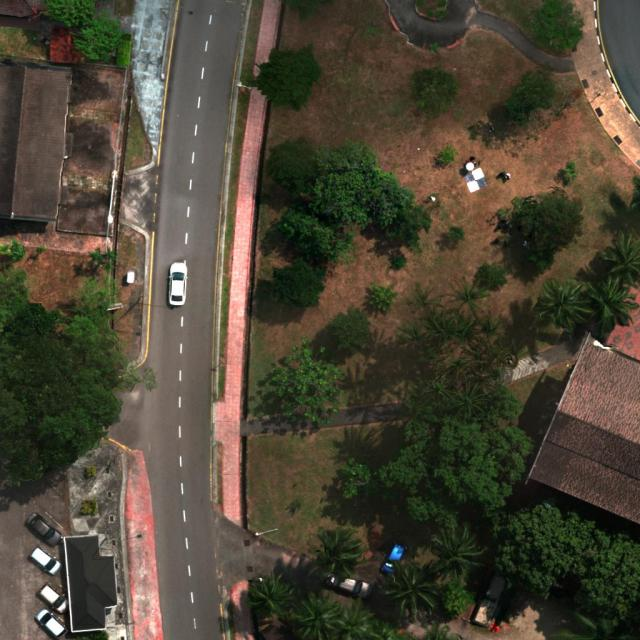Tree: (0, 302, 124, 488), (308, 138, 434, 253), (490, 495, 612, 600), (432, 420, 536, 516), (59, 314, 159, 394), (497, 186, 585, 270), (271, 335, 348, 427), (573, 528, 640, 628), (275, 200, 361, 268), (246, 41, 324, 111), (378, 420, 438, 493), (380, 558, 440, 620), (430, 521, 490, 583), (533, 274, 597, 332), (264, 135, 320, 200), (306, 526, 368, 583), (582, 273, 639, 333), (505, 60, 556, 125), (270, 256, 329, 311), (70, 5, 124, 64), (531, 0, 586, 53), (70, 276, 120, 333), (294, 588, 348, 640), (409, 65, 459, 121), (596, 229, 640, 289), (246, 572, 298, 622), (326, 304, 374, 356), (340, 453, 386, 507), (0, 266, 32, 331), (403, 494, 461, 528), (446, 381, 491, 422), (444, 275, 492, 313), (337, 596, 377, 640), (394, 380, 434, 424), (480, 382, 524, 422), (424, 308, 471, 344), (40, 0, 98, 28), (442, 578, 477, 616), (474, 313, 511, 348), (394, 316, 432, 349), (409, 620, 464, 640), (366, 616, 411, 640), (407, 282, 442, 312), (366, 282, 398, 314), (422, 378, 461, 404), (474, 260, 511, 287), (86, 245, 118, 274), (444, 351, 475, 380), (0, 238, 28, 269), (434, 144, 461, 170), (388, 254, 408, 272), (462, 347, 487, 361), (446, 225, 466, 242), (32, 246, 46, 255)
